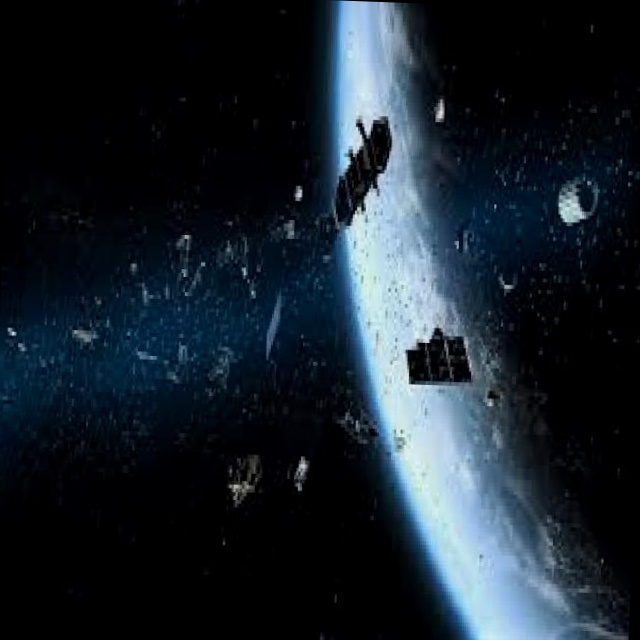large_debris: (306, 87, 420, 258), (161, 205, 281, 324), (0, 298, 125, 385), (219, 436, 325, 514), (131, 318, 242, 392), (393, 308, 481, 399), (540, 151, 613, 249), (333, 395, 372, 463), (486, 254, 533, 292), (478, 373, 507, 432), (444, 216, 482, 255), (426, 84, 452, 139)
